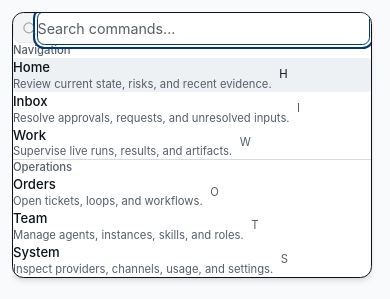
Test: filters command items from the search input
Check: the text "Home" is shown, box [13,59,50,75]
Step 1. Type "orders" into the dropdown with placeholder "Search commands..." → (203, 28), box [36,11,370,45]
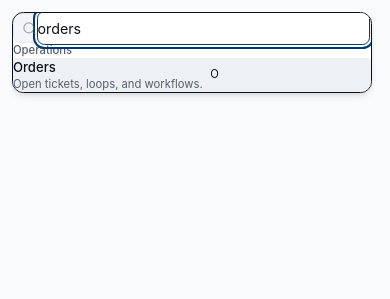
Check: the text "Orders" is shown, box [13,59,56,75]
Check: the text "Home" is gone
